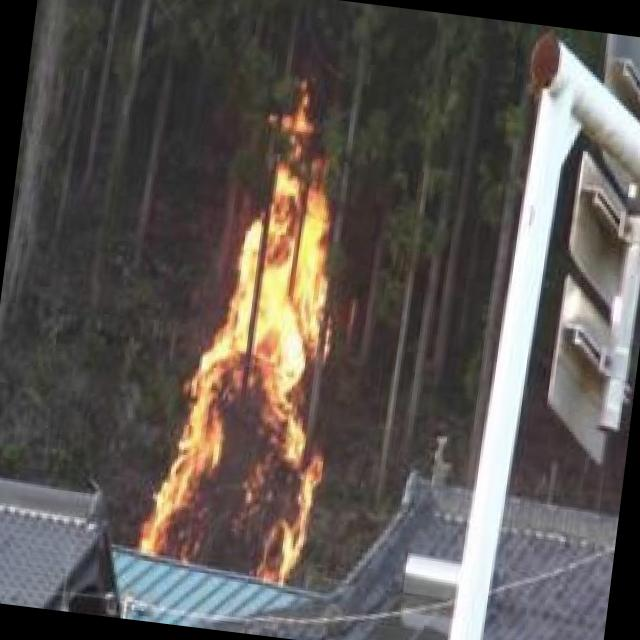Fire: (146, 161, 352, 578)
